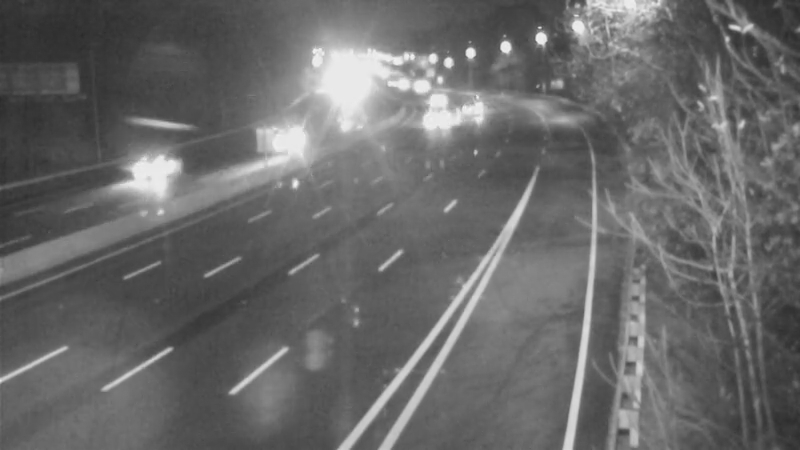vehicle: (103, 137, 183, 217), (450, 80, 500, 130), (411, 97, 461, 147), (251, 117, 301, 167)
